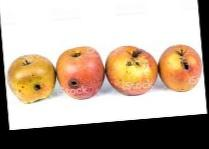rotten apple: (104, 44, 158, 97), (55, 45, 104, 100), (6, 51, 55, 103), (158, 40, 203, 93)
